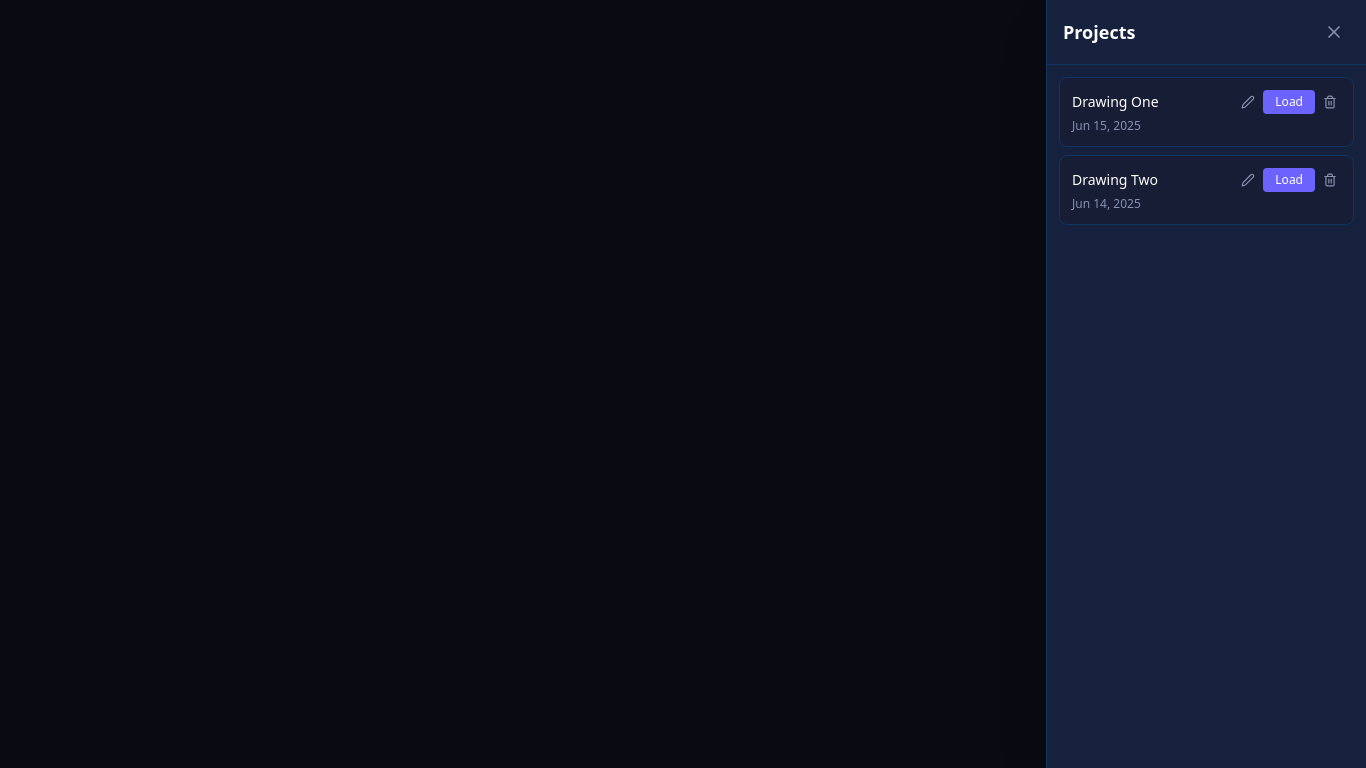
it: ProjectListSidebar › clicking Delete shows confirmation dialog
The image size is (1366, 768).
Expected: the heading "Drawing One" is shown, 1072,92 -> 1159,111
# Find and click the first Delete button (using aria-label)
Click the button named "Delete Drawing One": (1330, 102) 1319,91 -> 1341,113
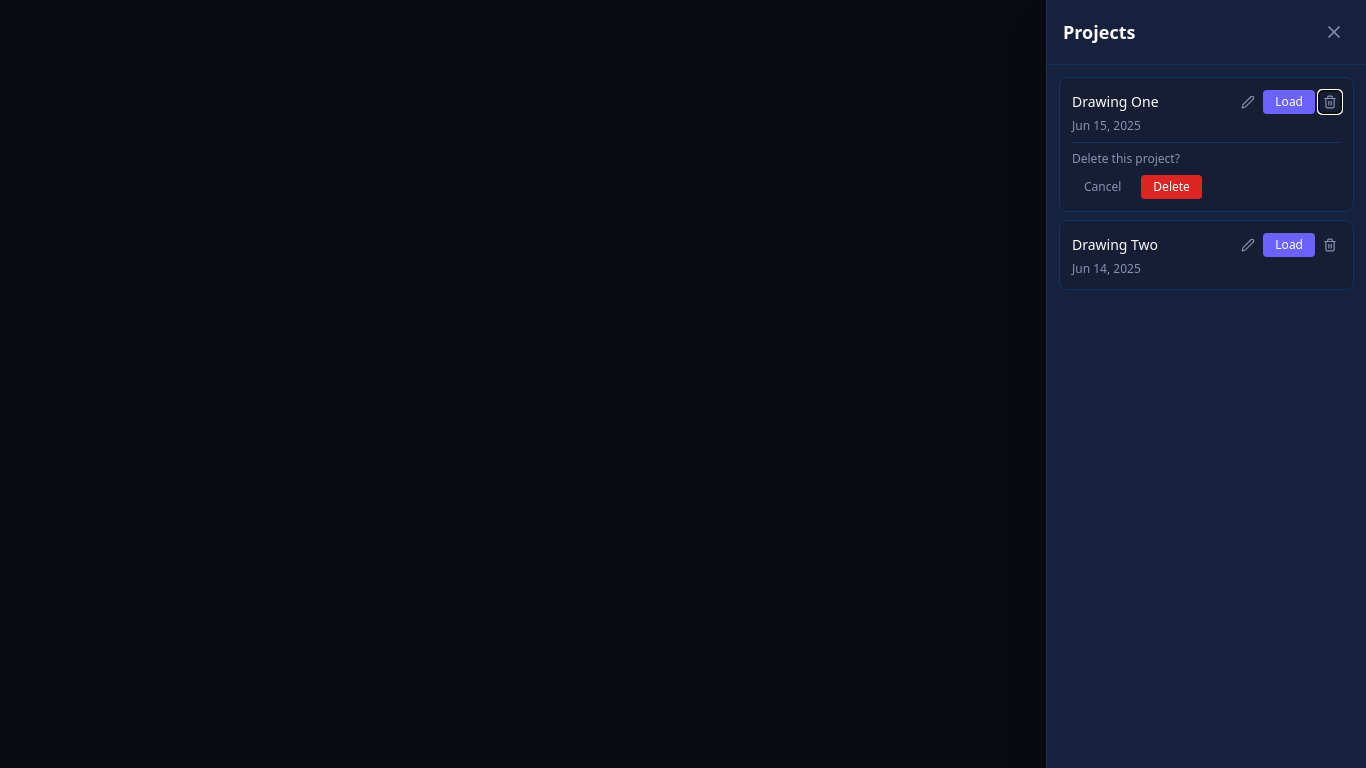
Expected: the text "Delete this project?" is shown, 1072,150 -> 1180,167
